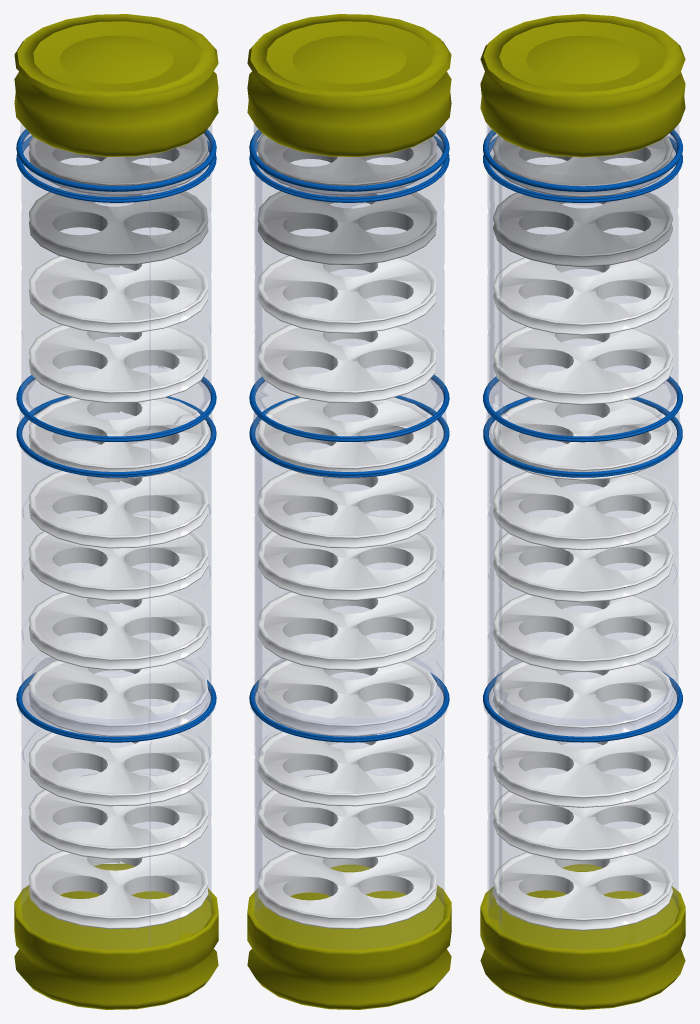
The model's file is rainstick.fbx.
3 renders of one model, left to right at view 1: azimuth 30°, elevation 25°; view 2: azimuth 150°, elevation 25°; view 3: azimuth 270°, elevation 25°, orthographic.
Parts seen in each view (by area): view 1: cylinder_Body, Cylinder_lid_top, Rainstick_Body_ChipCombined_2, Rainstick_Body_ChipCombined_5, Rainstick_Body_ChipCombined_3, Rainstick_Body_ChipCombined_6, Rainstick_Body_ChipCombined_4, Cylinder_lid_bottom_, Rainstick_Body_ChipCombined_1, ring, pasted__pTorus2; view 2: cylinder_Body, Cylinder_lid_top, Rainstick_Body_ChipCombined_2, Rainstick_Body_ChipCombined_5, Rainstick_Body_ChipCombined_3, Rainstick_Body_ChipCombined_6, Rainstick_Body_ChipCombined_4, Cylinder_lid_bottom_, Rainstick_Body_ChipCombined_1, ring, pasted__pTorus2; view 3: cylinder_Body, Cylinder_lid_top, Rainstick_Body_ChipCombined_2, Rainstick_Body_ChipCombined_5, Rainstick_Body_ChipCombined_3, Rainstick_Body_ChipCombined_6, Rainstick_Body_ChipCombined_4, Cylinder_lid_bottom_, Rainstick_Body_ChipCombined_1, ring, pasted__pTorus2.
Part boxes in pixels (box(x1,y1,x2,y2)): cylinder_Body: box(18, 124, 215, 975); Cylinder_lid_top: box(14, 14, 218, 157); Rainstick_Body_ChipCombined_2: box(29, 255, 208, 403); Rainstick_Body_ChipCombined_5: box(29, 660, 208, 806); Rainstick_Body_ChipCombined_3: box(29, 397, 208, 548); Rainstick_Body_ChipCombined_6: box(29, 773, 208, 928); Rainstick_Body_ChipCombined_4: box(29, 514, 208, 670); Cylinder_lid_bottom_: box(14, 863, 218, 1009); Rainstick_Body_ChipCombined_1: box(29, 134, 208, 265); ring: box(16, 129, 216, 742); pasted__pTorus2: box(16, 374, 216, 441); cylinder_Body: box(250, 124, 447, 949); Cylinder_lid_top: box(247, 14, 451, 157); Rainstick_Body_ChipCombined_2: box(257, 255, 436, 403); Rainstick_Body_ChipCombined_5: box(257, 660, 436, 806); Rainstick_Body_ChipCombined_3: box(257, 397, 436, 548); Rainstick_Body_ChipCombined_6: box(257, 773, 436, 928); Rainstick_Body_ChipCombined_4: box(257, 514, 436, 670); Cylinder_lid_bottom_: box(247, 864, 451, 1009); Rainstick_Body_ChipCombined_1: box(257, 134, 436, 265); ring: box(249, 129, 449, 742); pasted__pTorus2: box(249, 374, 449, 441); cylinder_Body: box(483, 124, 680, 949); Cylinder_lid_top: box(480, 14, 685, 157); Rainstick_Body_ChipCombined_2: box(493, 257, 672, 404); Rainstick_Body_ChipCombined_5: box(493, 661, 672, 807); Rainstick_Body_ChipCombined_3: box(493, 399, 672, 549); Rainstick_Body_ChipCombined_6: box(493, 791, 672, 930); Rainstick_Body_ChipCombined_4: box(493, 516, 672, 671); Cylinder_lid_bottom_: box(480, 864, 685, 1009); Rainstick_Body_ChipCombined_1: box(493, 135, 672, 266); ring: box(483, 130, 682, 742); pasted__pTorus2: box(483, 376, 682, 442).
Size of the model in its own units: 2.15 by 10.69 by 2.15.
